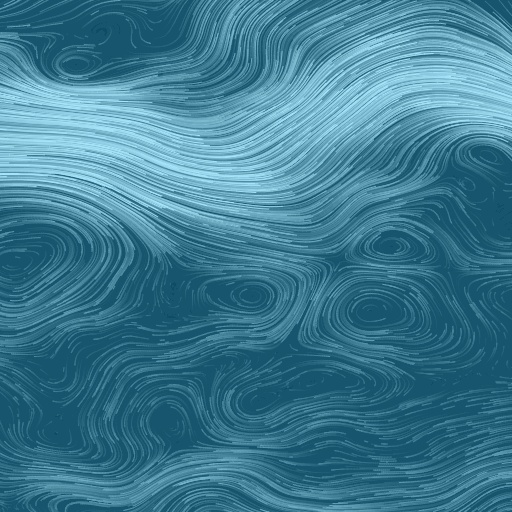eddy: (223, 355, 376, 429), (322, 270, 436, 350), (199, 271, 289, 325), (359, 223, 430, 266), (51, 49, 101, 82), (2, 243, 41, 279), (465, 143, 509, 170)
